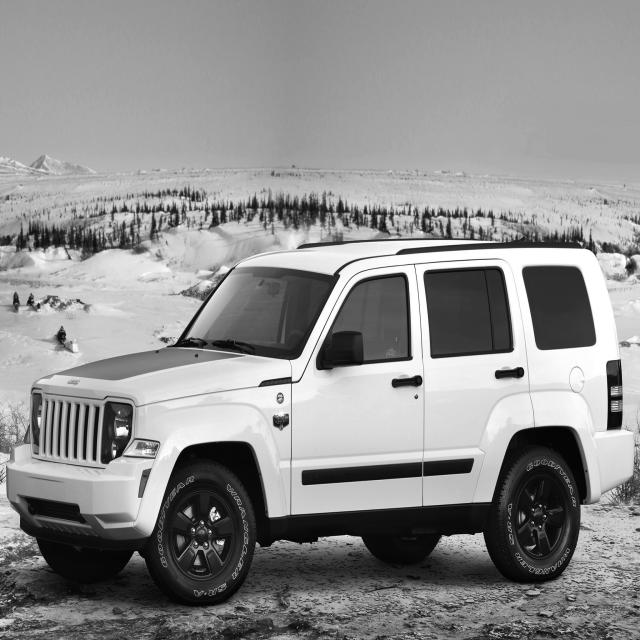car: (6, 238, 634, 607)
